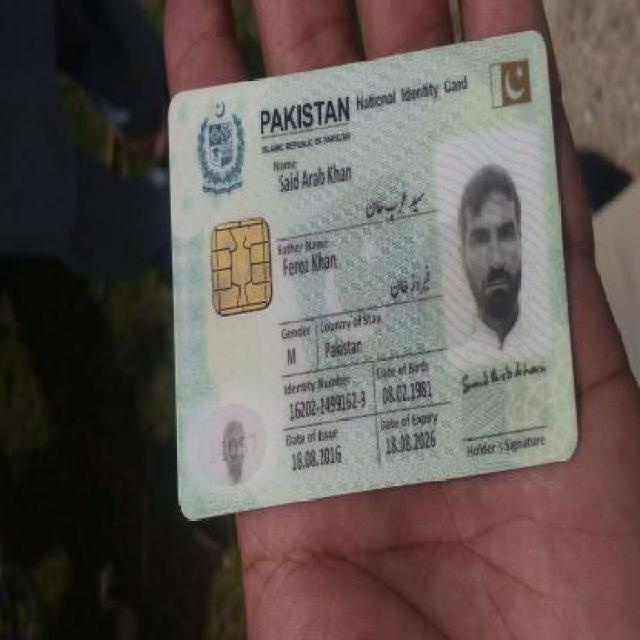Front: (150, 48, 584, 495)
